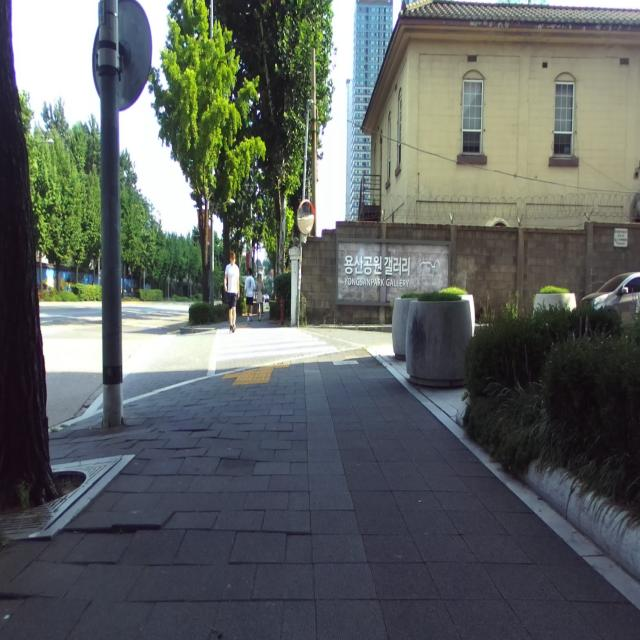횡단보도: (216, 327, 337, 362)
